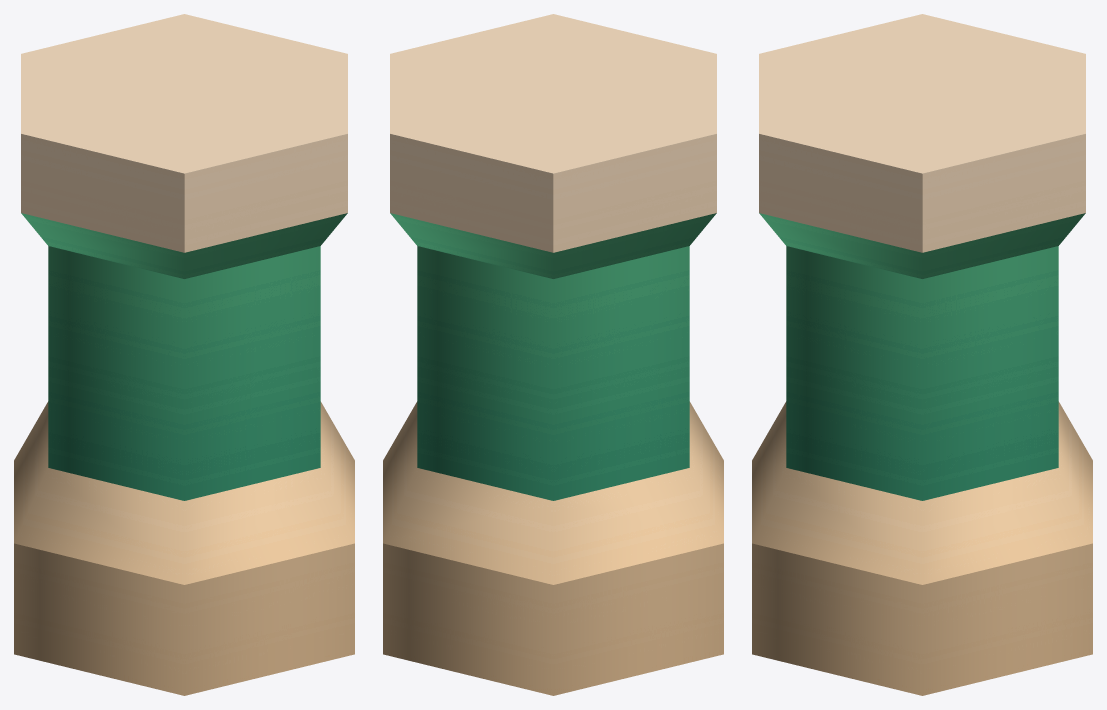
Rendered from tower-hexagon-base.glb.
3 renders of one model, left to right at view 1: azimuth 30°, elevation 25°; view 2: azimuth 150°, elevation 25°; view 3: azimuth 270°, elevation 25°, orthographic.
Parts seen in each view (by area): view 1: tower-hexagon-base; view 2: tower-hexagon-base; view 3: tower-hexagon-base.
Part boxes in pixels (x1,y1,x2,y2): tower-hexagon-base: (14, 14, 354, 695); tower-hexagon-base: (383, 14, 723, 695); tower-hexagon-base: (752, 14, 1092, 695).
Bounding box in the file's own units: 0.9 × 1.31 × 0.7794.
